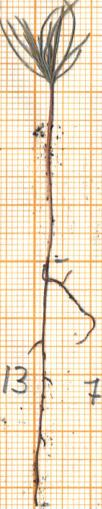flower: (0, 0, 95, 85)
root: (25, 263, 97, 509)
stem: (44, 89, 61, 259)
